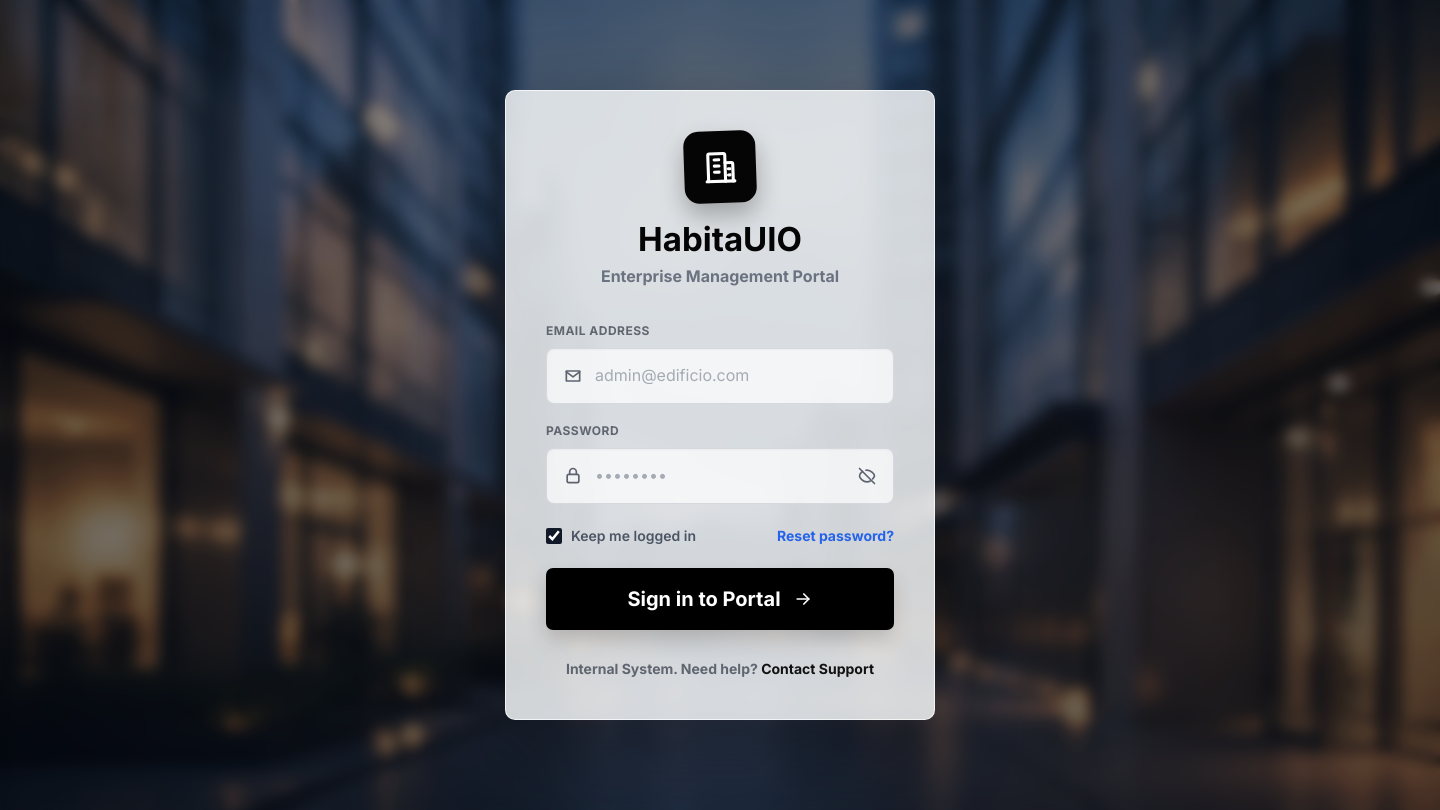
it: LoginPage › test_LoginPage_display_error_invalid_credentials › deve exibir mensagem genérica ao falhar
Type "admin@edificios.com" into the field with placeholder "admin@edificio.com" at (737, 376), box [595, 364, 879, 387]
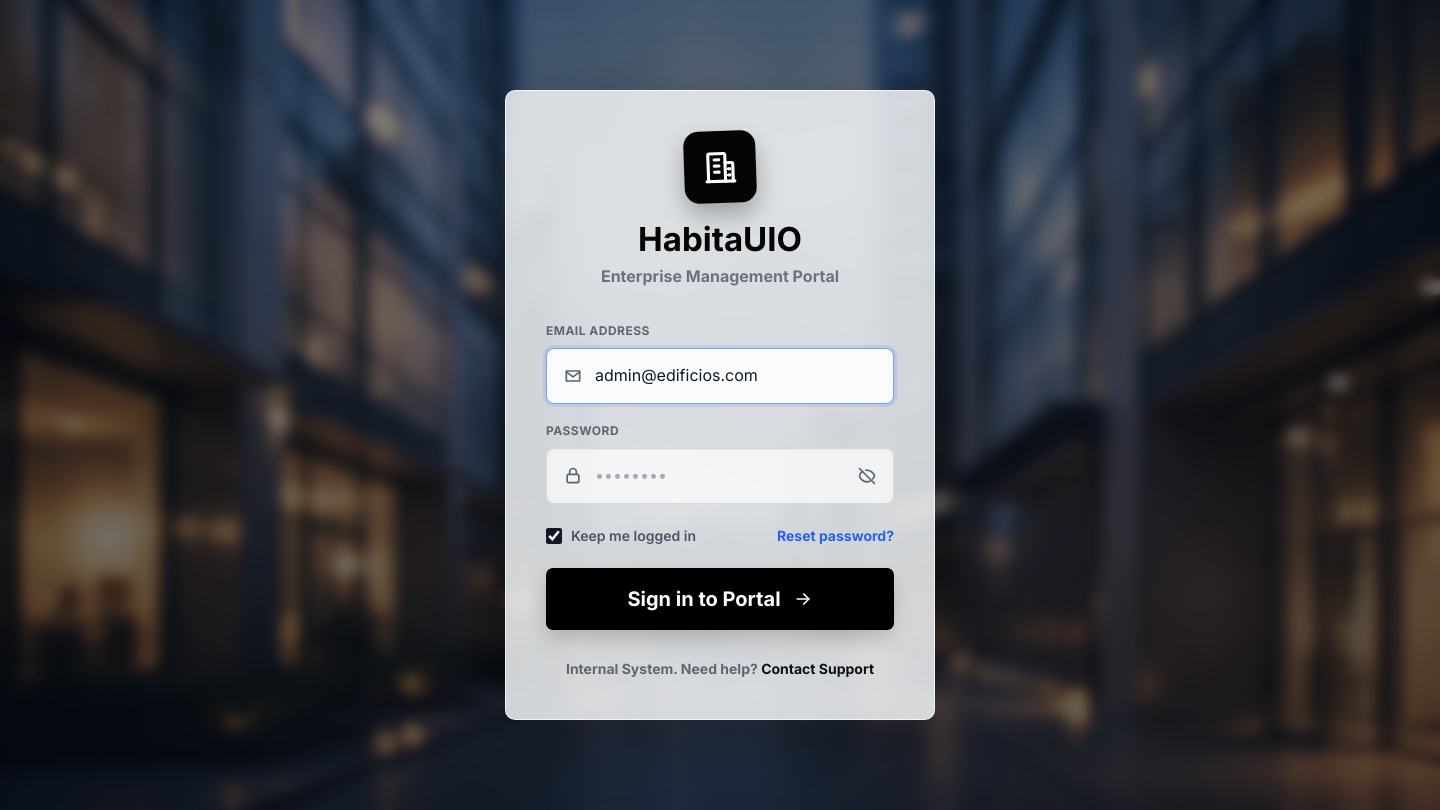
Type "Admin123!" into the password field with placeholder "••••••••" at (720, 476), box [595, 464, 845, 487]
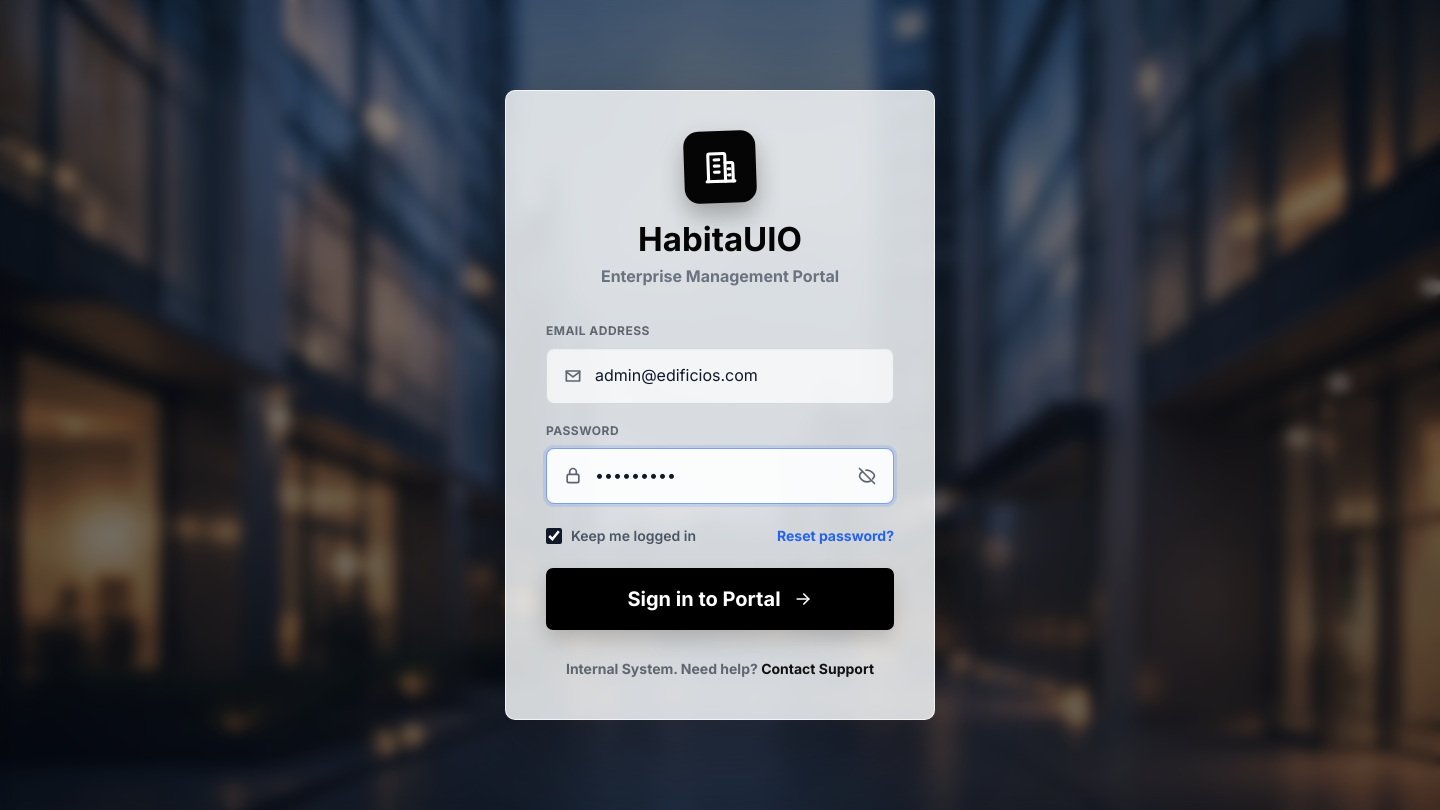
Click the button "Sign in to Portal" at (720, 599), box [546, 568, 894, 630]
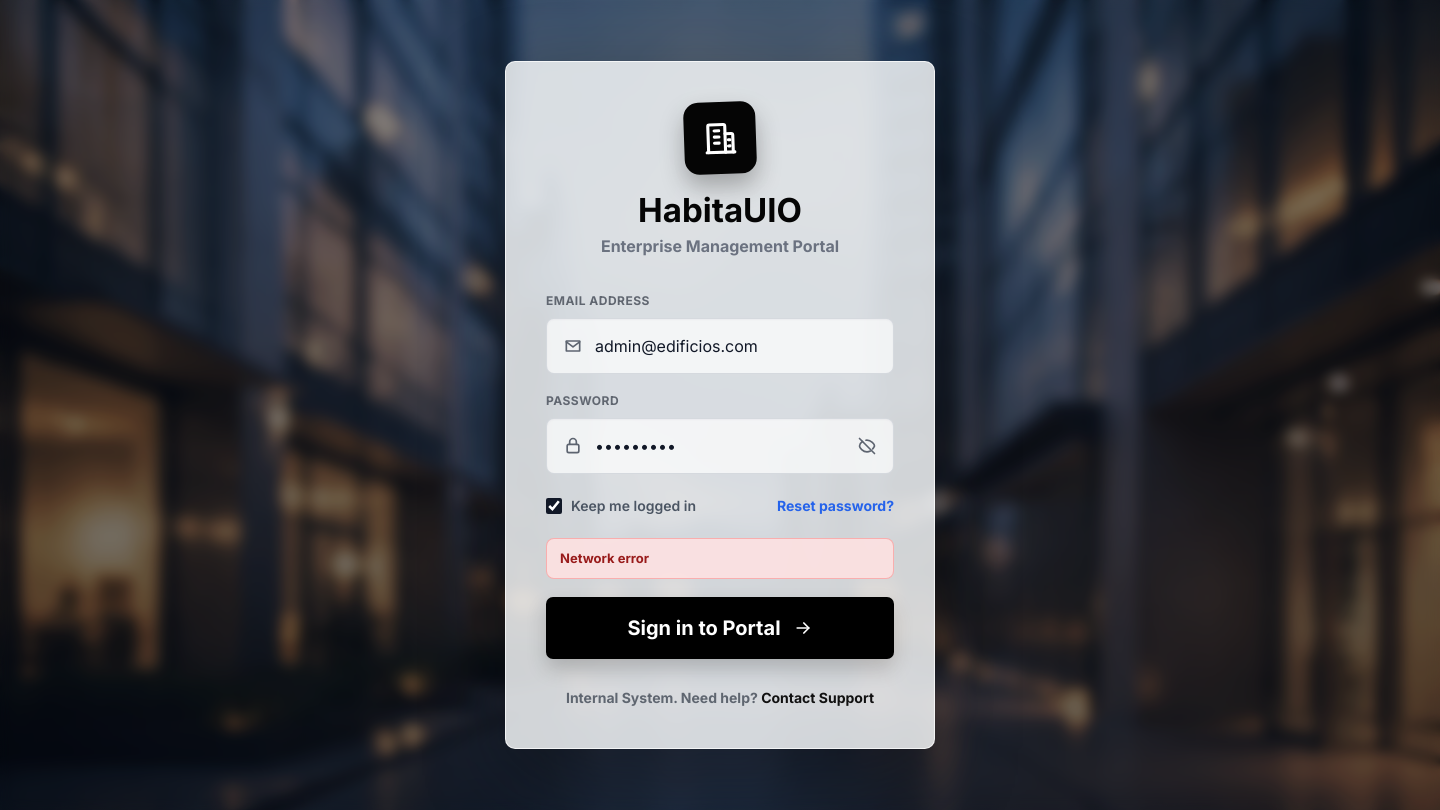
Result: the text "Network error" is shown at [546, 538, 894, 579]
